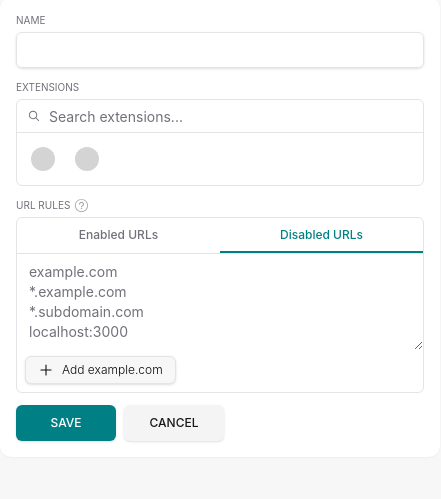
it: GroupRules › shows validation errors when submitting an empty form
Click the button "Save". click: {"x": 66, "y": 423}
box: left=16, top=405, right=116, bottom=441
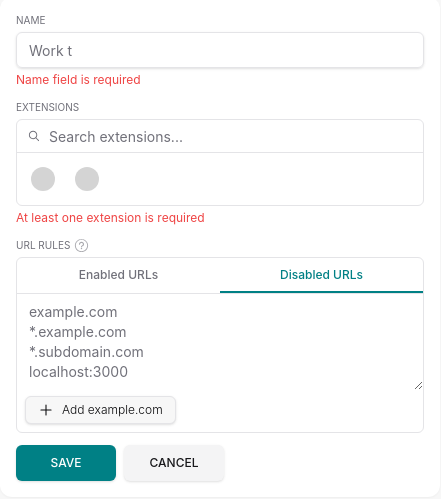
Expected: the text "Name field is required" is shown, left=16, top=72, right=141, bottom=87
Expected: the text "At least one extension is required" is shown, left=16, top=210, right=205, bottom=225
